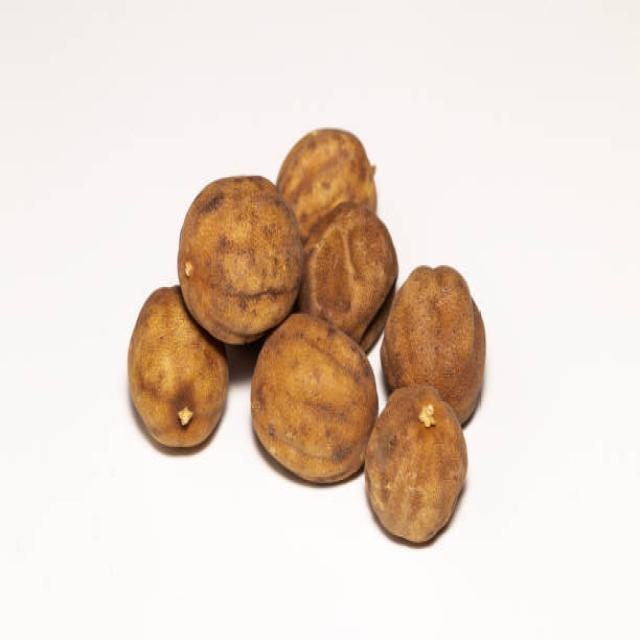overripe: (250, 307, 375, 488), (177, 171, 303, 347), (364, 377, 471, 548), (128, 280, 231, 452), (380, 263, 487, 420), (300, 199, 398, 338), (276, 120, 382, 208)
